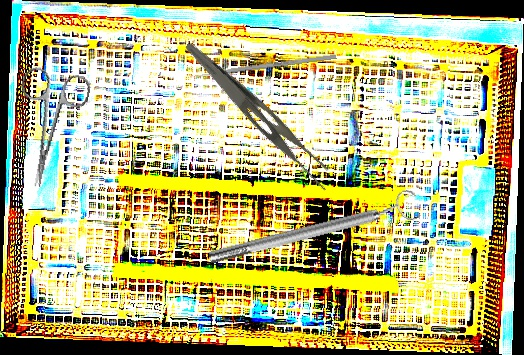Dressing Forceps: (169, 40, 344, 194)
Fixation Ring: (205, 187, 422, 273)
Iris Scissors: (1, 64, 93, 194)
Pusher: (189, 53, 337, 80)
